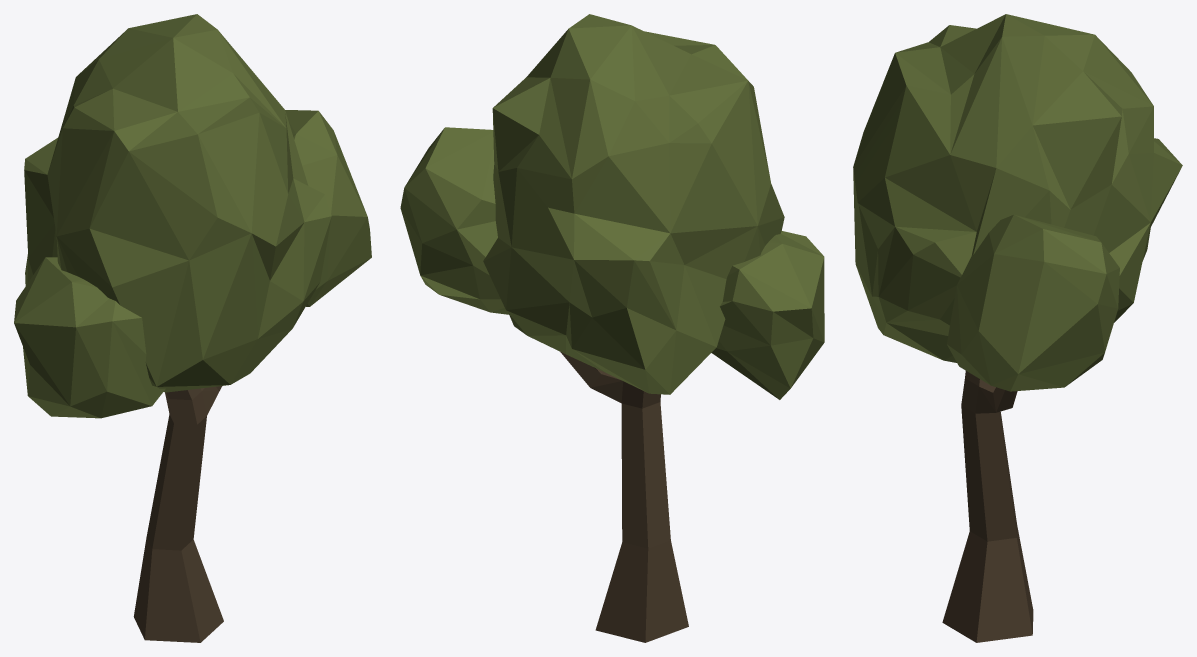
The model's file is SM_Env_Tree_04.gltf.
3 views of the same model, side by side, from view 1: azimuth 30°, elevation 25°; view 2: azimuth 150°, elevation 25°; view 3: azimuth 270°, elevation 25° (orthographic). The views are drawn at different scales.
Parts seen in each view (by area): view 1: SM_Env_Tree_04; view 2: SM_Env_Tree_04; view 3: SM_Env_Tree_04.
Part boxes in pixels (bbox=[...]): SM_Env_Tree_04: bbox=[14, 14, 371, 642]; SM_Env_Tree_04: bbox=[400, 14, 824, 642]; SM_Env_Tree_04: bbox=[853, 14, 1182, 642].
Size of the model in its own units: 3.7 by 5.58 by 2.73.
1 material, 1 textured.
